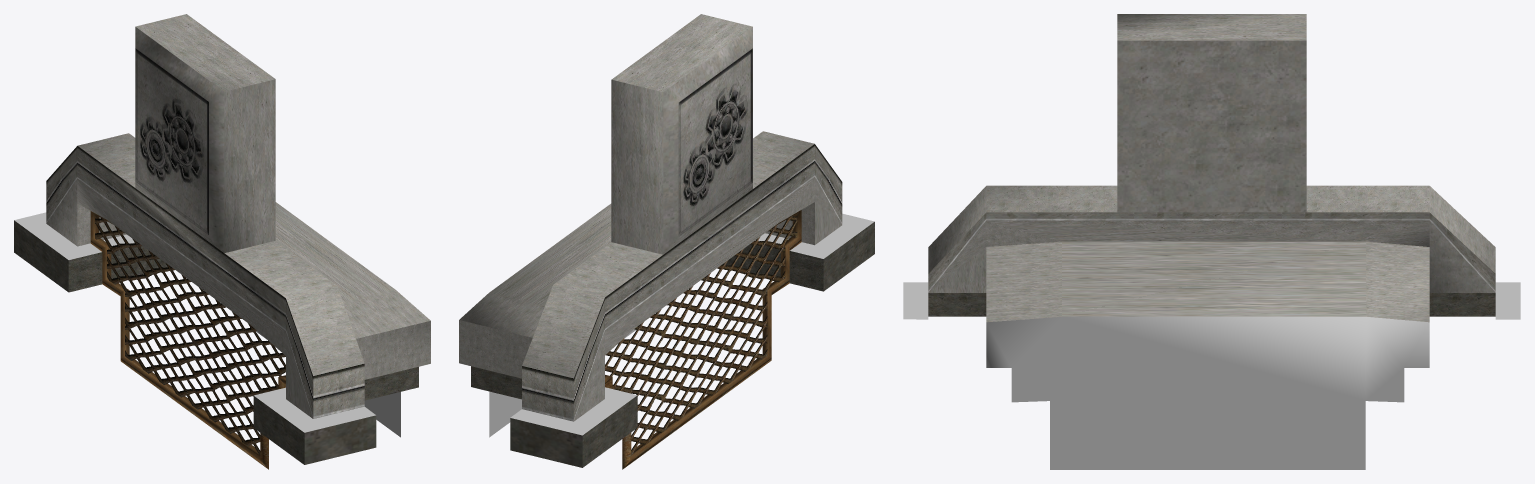
File: WATERROOM_CANAL_GEARS_WATERROOM_CANAL_GEARS.obj
The picture shows the model from 3 angles, left to right: view 1: azimuth 30°, elevation 25°; view 2: azimuth 150°, elevation 25°; view 3: azimuth 270°, elevation 25°; orthographic projection. The views are drawn at different scales.
Parts seen in each view (by area): view 1: oom_canal_gears; view 2: oom_canal_gears; view 3: oom_canal_gears.
Boxes of the visible parts, <box> form: oom_canal_gears: <box>14,14,430,469</box>; oom_canal_gears: <box>459,14,874,469</box>; oom_canal_gears: <box>903,14,1520,469</box>.
Bounding box in the file's own units: 161 × 333 × 489.
